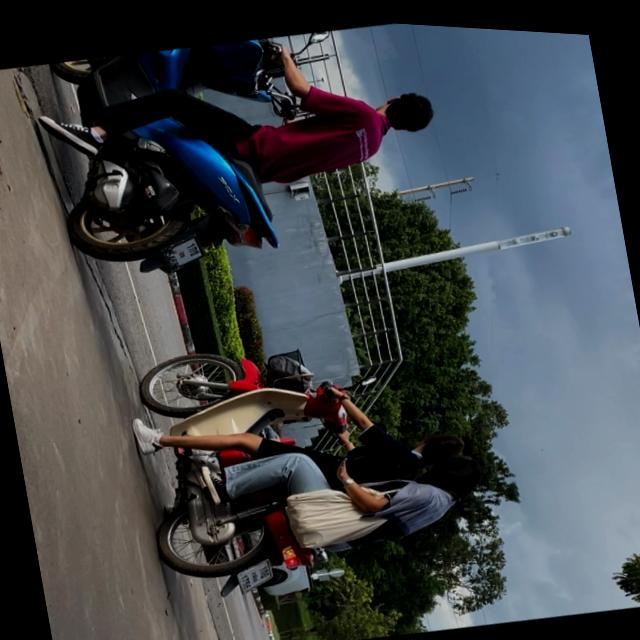seatbelt: (371, 80, 438, 135), (424, 448, 482, 489), (412, 421, 467, 459)
